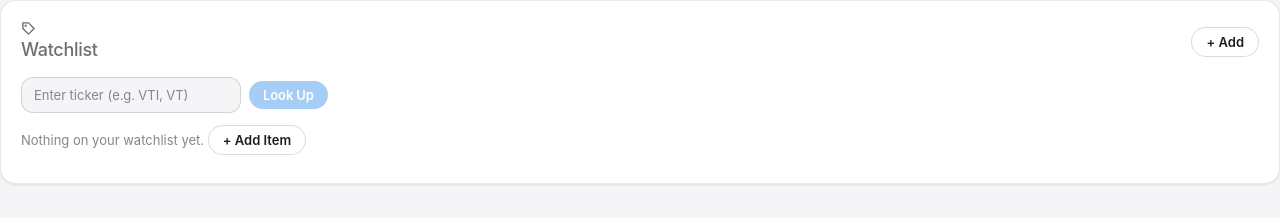
Test: InvestmentDiscovery — manual add › opens inline add row when + Add is clicked
This screenshot has width=1280, height=218.
What coordinates should you click on to do the following:
click the button "+ Add Item"
I would click on:
 (257, 140)
Its box is [208, 125, 306, 155].
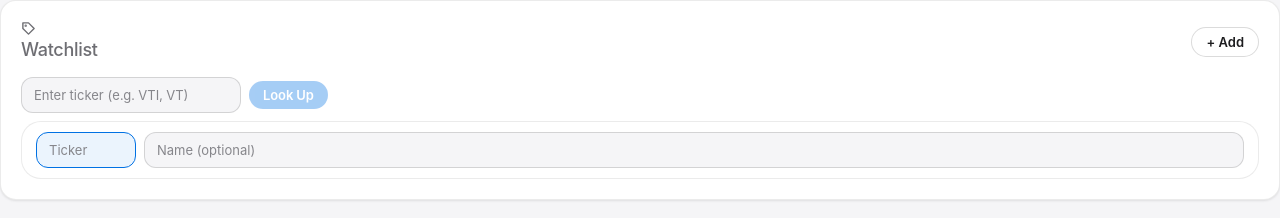
Expected: the field with placeholder "Ticker" is shown, [36, 132, 136, 168]
